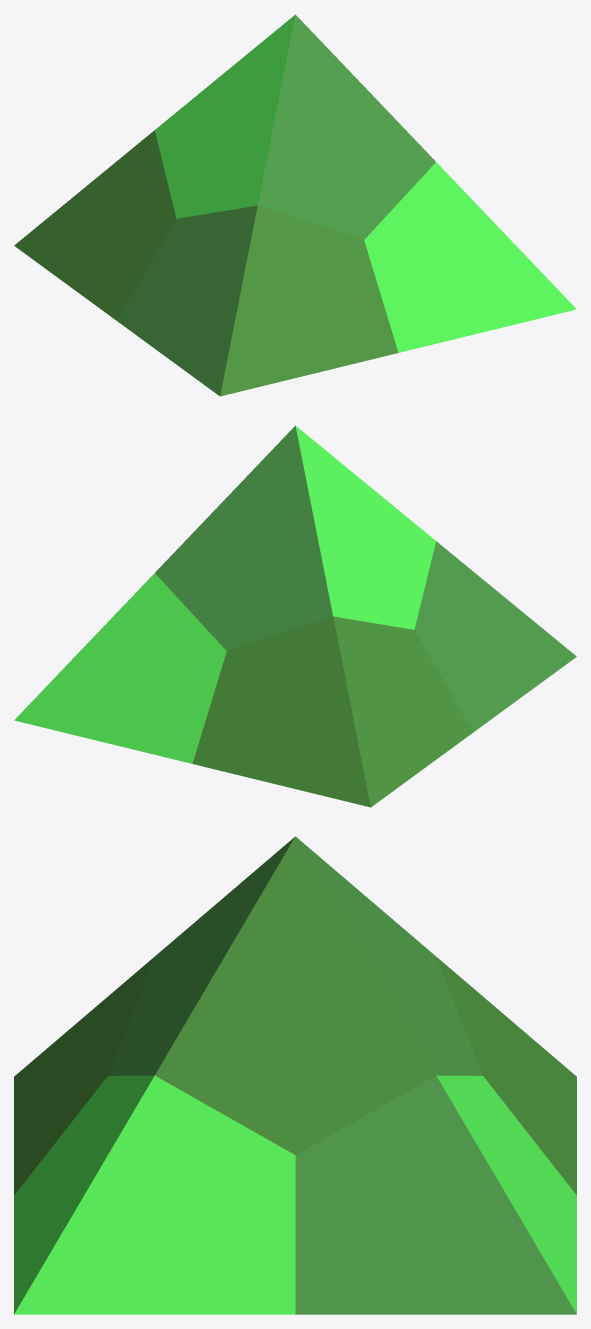
Rendered from box.Pyrimad4.fbx.
3 views of the same model, one above another, from view 1: azimuth 30°, elevation 25°; view 2: azimuth 150°, elevation 25°; view 3: azimuth 270°, elevation 25° (orthographic). The views are drawn at different scales.
Visible parts, largest first — view 1: Cone; view 2: Cone; view 3: Cone.
Part boxes in pixels (box(x1,y1,x2,y2)): Cone: box(14, 14, 576, 396); Cone: box(14, 425, 576, 807); Cone: box(14, 836, 576, 1314).
Bounding box in the file's own units: 200 × 141 × 200.
